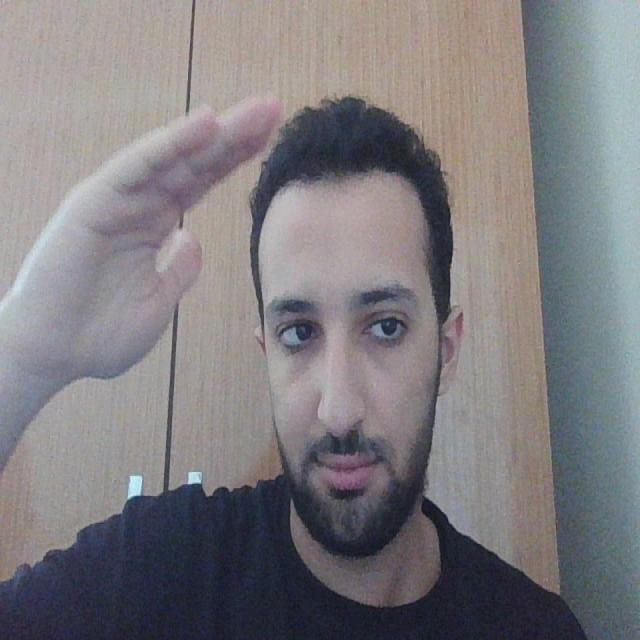Merhaba: (12, 80, 306, 430)
